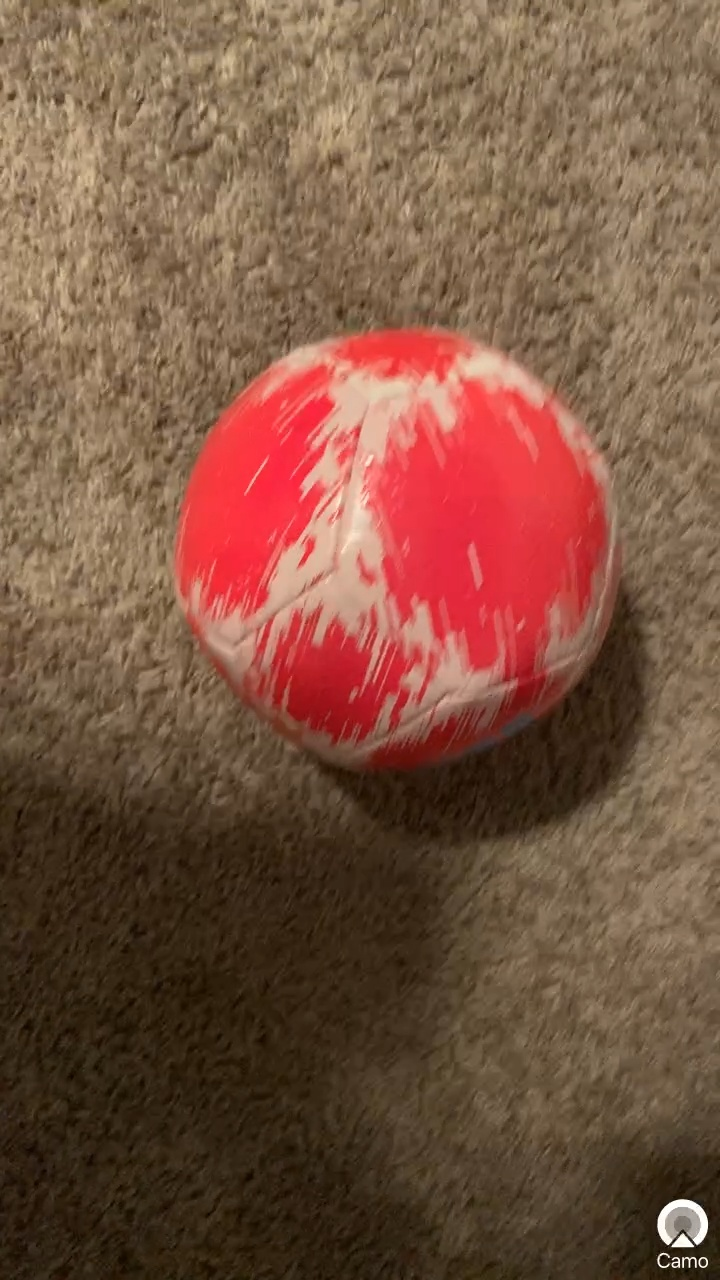Soccer_Ball: (183, 306, 636, 798)
